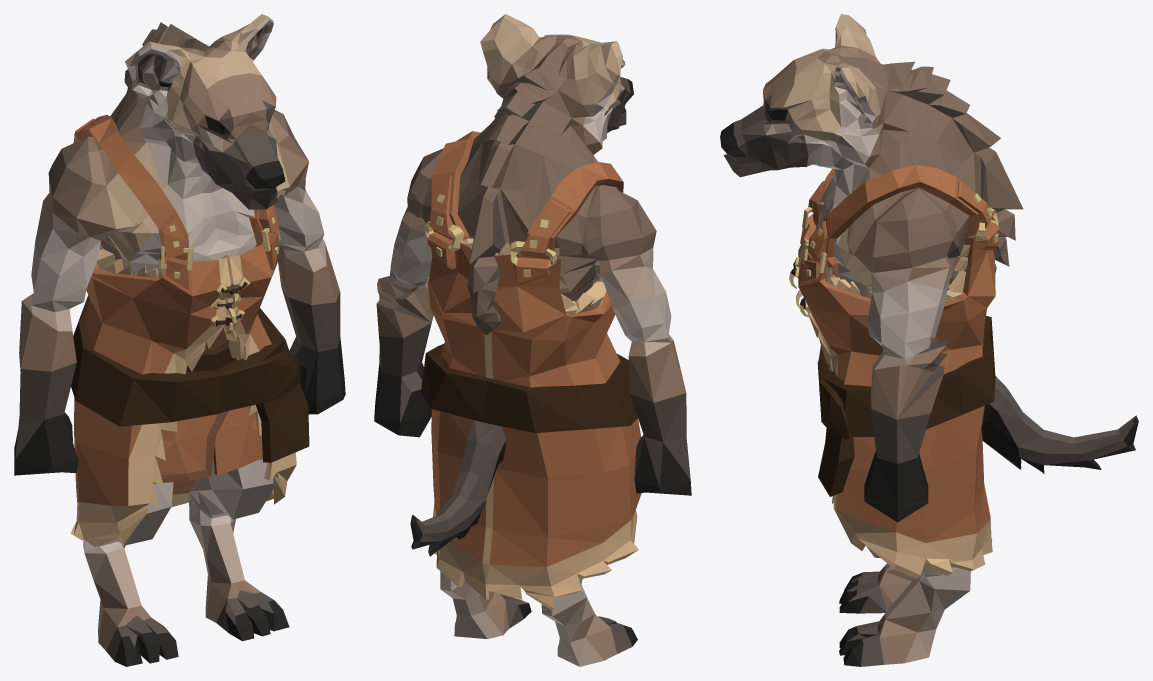
Rendered from gnoll_furclad.fbx.
3 views of the same model, side by side, from view 1: azimuth 30°, elevation 25°; view 2: azimuth 150°, elevation 25°; view 3: azimuth 270°, elevation 25° (orthographic). The views are drawn at different scales.
Visible parts, largest first — view 1: gnoll_11_tri_furarmor_01; view 2: gnoll_11_tri_furarmor_01; view 3: gnoll_11_tri_furarmor_01.
Part boxes in pixels (bbox=[...]): gnoll_11_tri_furarmor_01: bbox=[14, 14, 345, 666]; gnoll_11_tri_furarmor_01: bbox=[374, 14, 691, 666]; gnoll_11_tri_furarmor_01: bbox=[720, 14, 1138, 666].
Size of the model in its own units: 517 by 921 by 596.
